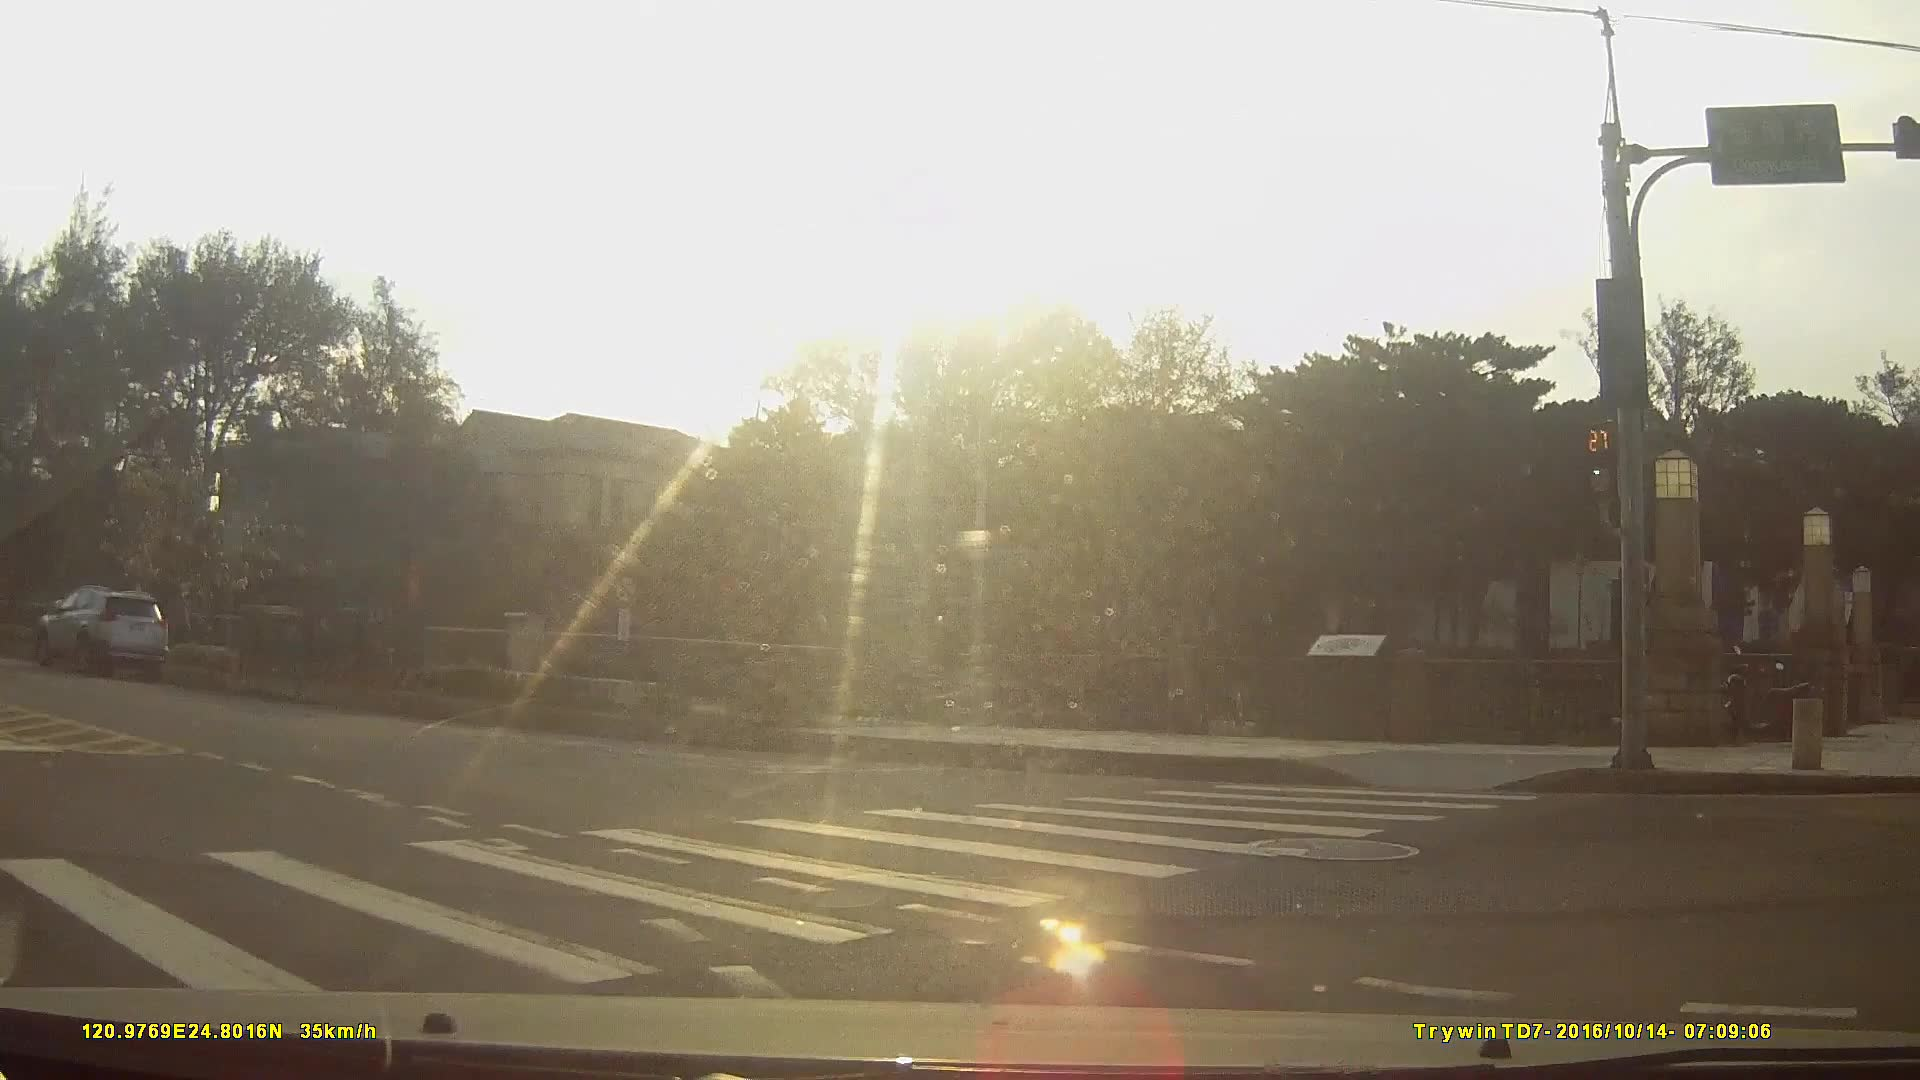vehicle: (36, 582, 167, 676)
